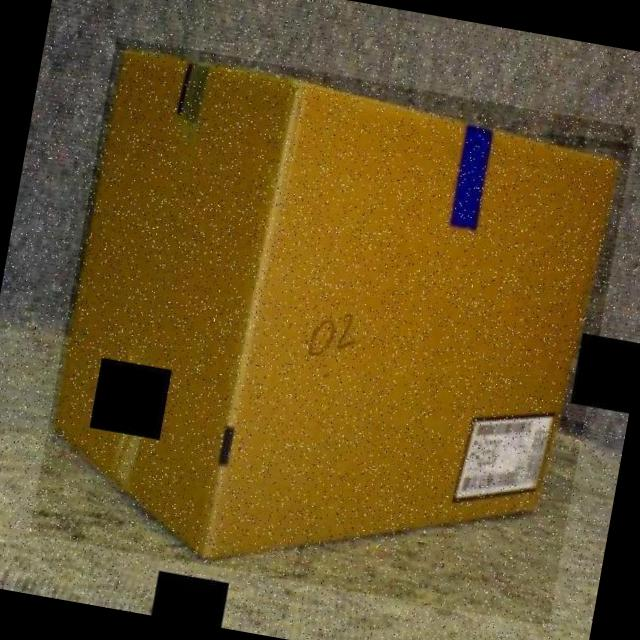box: (29, 36, 636, 626)
